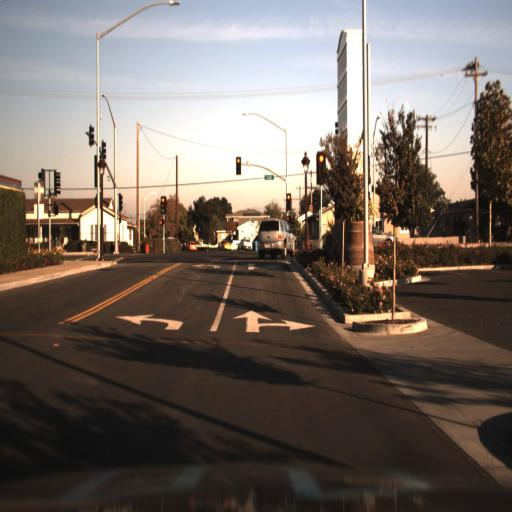car: (257, 215, 298, 256), (369, 220, 399, 253), (216, 236, 235, 254), (185, 238, 197, 257), (237, 238, 252, 253)
trafficLight-Red: (159, 193, 169, 218), (233, 154, 243, 178), (316, 151, 325, 172), (284, 189, 292, 212), (235, 153, 243, 168), (284, 191, 291, 205), (159, 195, 166, 207)
